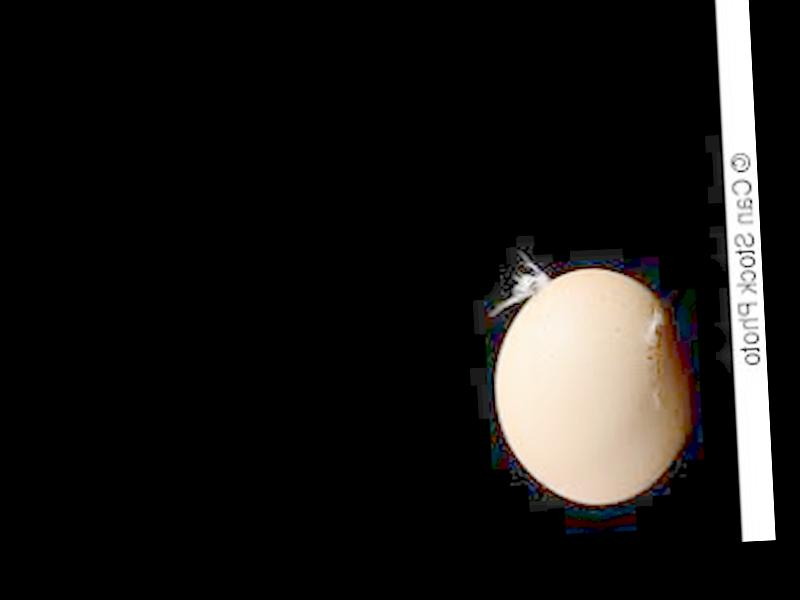Eggs: (491, 264, 696, 509)
